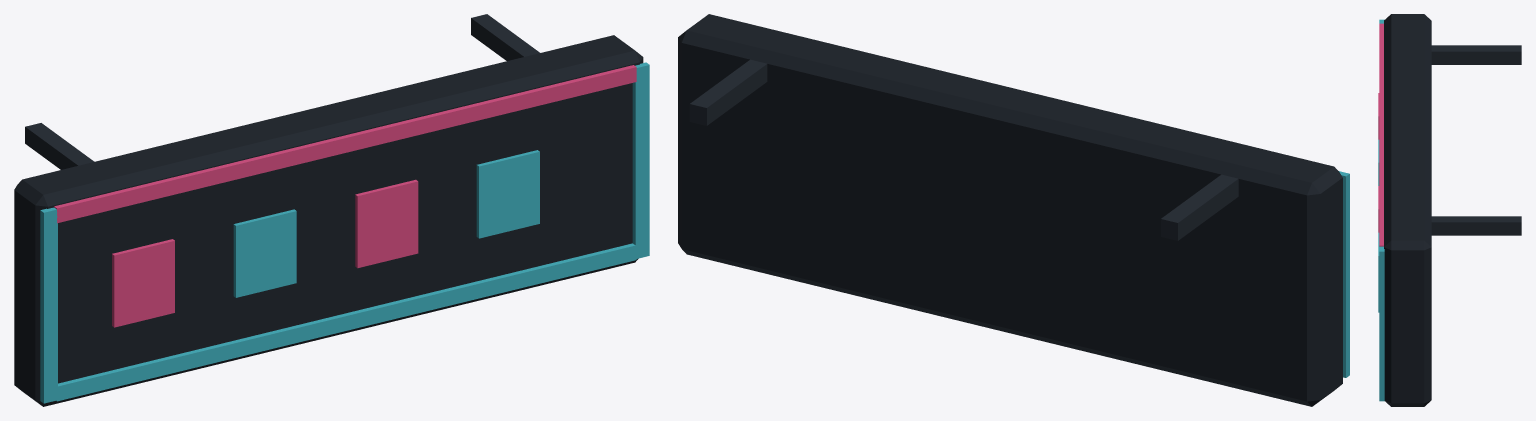
The model's file is bld_sign_a.glb.
The picture shows the model from 3 angles, left to right: view 1: azimuth 30°, elevation 25°; view 2: azimuth 150°, elevation 25°; view 3: azimuth 270°, elevation 25°; orthographic projection. The views are drawn at different scales.
Parts seen in each view (by area): view 1: bld; view 2: bld; view 3: bld.
Boxes of the visible parts, bbox=[...] form: bld: bbox=[14, 14, 649, 406]; bld: bbox=[678, 14, 1349, 406]; bld: bbox=[1378, 14, 1521, 406].
Size of the model in its own units: 3 by 1 by 0.78.
